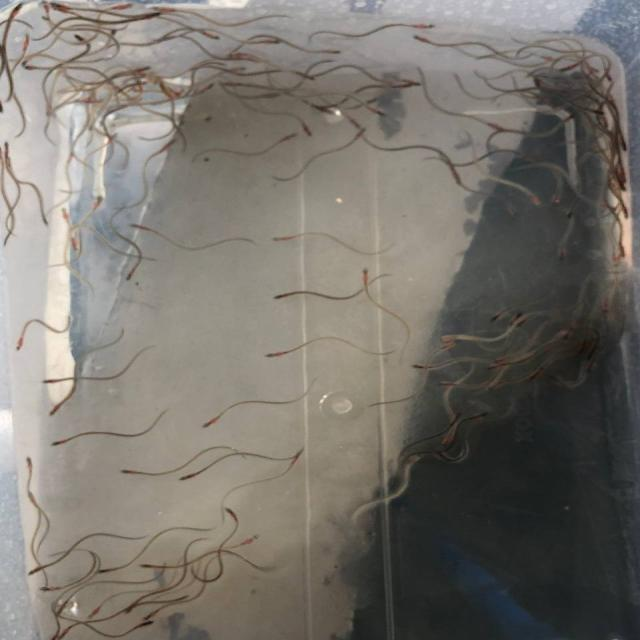glass_eel: (433, 429, 460, 450), (394, 79, 431, 94), (120, 594, 146, 615), (274, 230, 306, 246), (558, 321, 580, 344), (286, 70, 321, 84), (286, 446, 308, 468), (432, 341, 468, 354), (194, 80, 223, 96), (434, 330, 467, 344), (124, 261, 146, 282), (409, 34, 436, 51), (196, 29, 228, 43), (522, 367, 544, 387), (19, 457, 42, 476), (488, 309, 512, 327), (134, 11, 169, 23), (294, 119, 314, 140), (579, 101, 607, 116), (344, 128, 370, 144), (233, 534, 262, 548), (26, 564, 55, 578), (308, 101, 335, 116), (51, 433, 76, 449), (44, 400, 66, 418), (544, 376, 574, 389), (612, 174, 634, 191), (355, 267, 372, 289), (508, 312, 525, 334), (222, 506, 245, 522), (50, 0, 76, 14), (270, 290, 296, 304), (262, 349, 288, 363), (573, 339, 592, 358), (88, 194, 106, 214), (557, 244, 575, 264), (200, 415, 224, 430), (400, 454, 424, 469), (8, 0, 25, 21), (51, 604, 73, 620), (84, 603, 106, 619), (96, 566, 123, 579), (143, 604, 170, 617), (551, 63, 576, 77), (486, 118, 509, 133), (20, 32, 38, 51), (119, 467, 150, 478), (548, 187, 568, 204), (69, 236, 86, 256), (414, 22, 438, 36), (109, 0, 139, 11), (56, 203, 71, 225), (132, 619, 162, 630), (24, 490, 42, 508), (157, 80, 176, 97), (27, 61, 50, 75), (613, 138, 633, 154), (37, 0, 52, 21), (536, 77, 551, 98), (472, 409, 493, 424), (151, 4, 175, 17), (225, 51, 256, 61), (69, 32, 91, 46), (411, 362, 439, 373), (20, 50, 39, 66), (0, 141, 16, 160), (365, 108, 390, 120), (127, 222, 157, 232), (45, 627, 68, 640), (174, 472, 201, 483), (38, 375, 67, 385), (130, 63, 154, 75), (502, 201, 520, 217), (597, 296, 613, 314), (317, 48, 343, 59), (104, 30, 124, 44), (277, 133, 298, 146), (255, 36, 282, 46), (487, 360, 514, 370), (531, 190, 544, 210), (614, 247, 627, 267), (38, 584, 67, 592), (14, 334, 26, 353), (138, 560, 160, 570), (535, 56, 562, 64), (437, 379, 457, 389)
